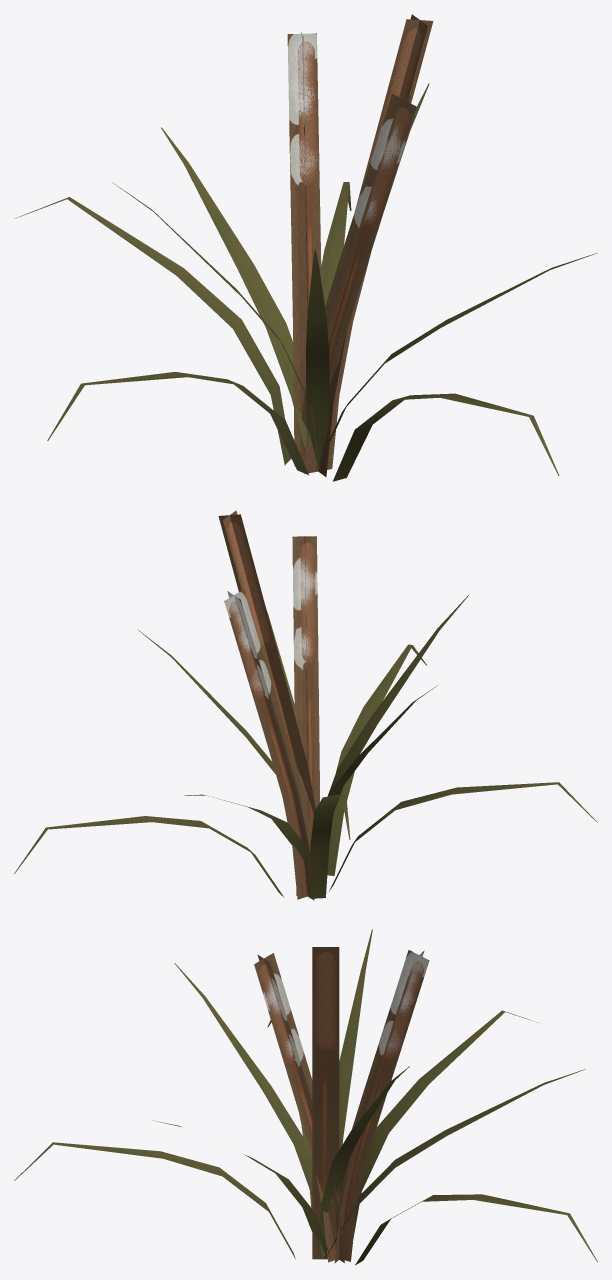
The model's file is cattails.fbx.
The picture shows the model from 3 angles, top to bottom: view 1: azimuth 30°, elevation 25°; view 2: azimuth 150°, elevation 25°; view 3: azimuth 270°, elevation 25°; orthographic projection. The views are drawn at different scales.
Visible parts, largest first — view 1: polySurface4; view 2: polySurface4; view 3: polySurface4.
Boxes of the visible parts, x1,y1,x2,y2 form: polySurface4: (14, 14, 597, 481); polySurface4: (14, 510, 597, 900); polySurface4: (14, 929, 597, 1265).
Bounding box in the file's own units: 143 × 117 × 174.
